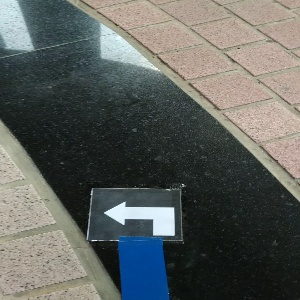left: (89, 189, 183, 240)
